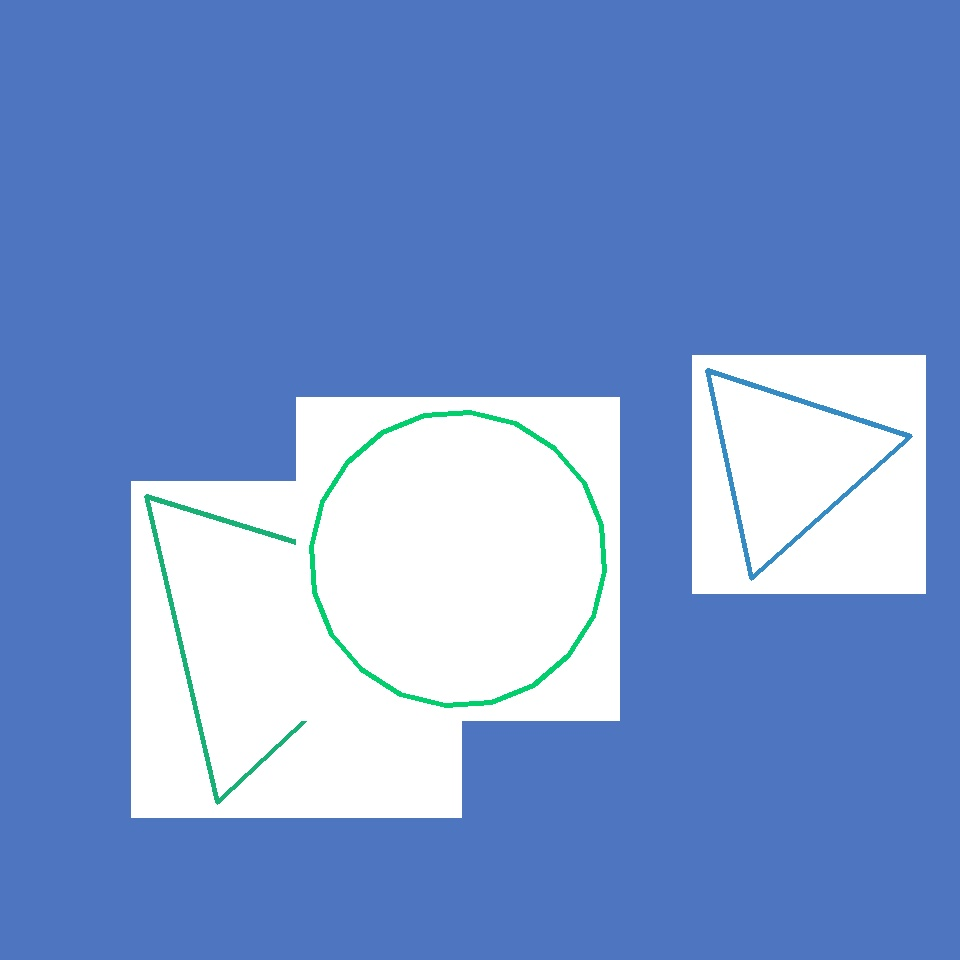circle: (120, 476, 420, 782), (688, 358, 892, 566)
triangle: (312, 412, 605, 706), (430, 474, 710, 754), (220, 502, 348, 630), (572, 318, 674, 420)
